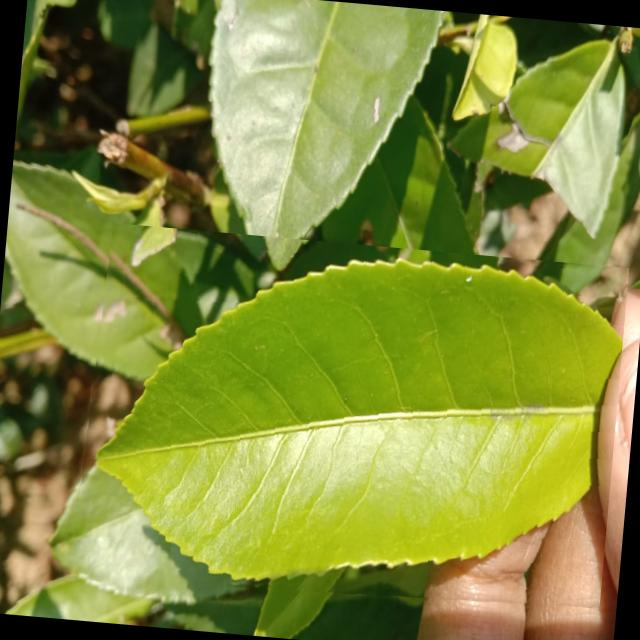Category B(2-4 days): (69, 220, 629, 622)
